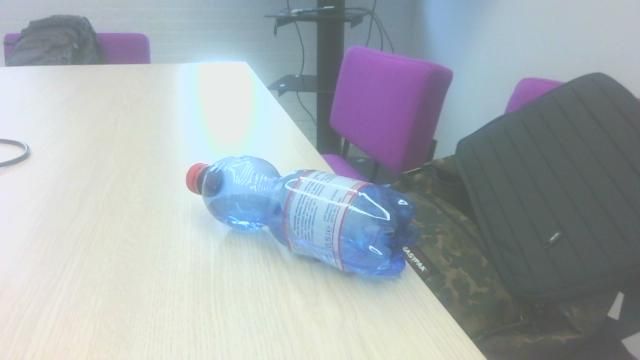plastic_bottle: (181, 148, 418, 288)
